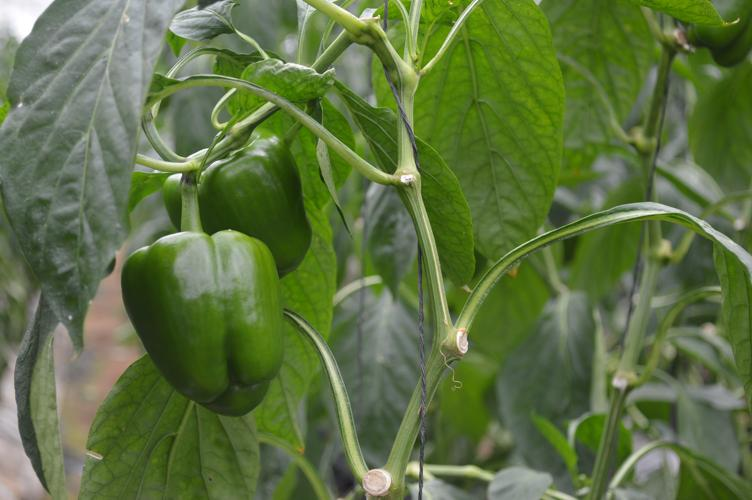BellPepper: (117, 233, 284, 411), (159, 140, 305, 272)
